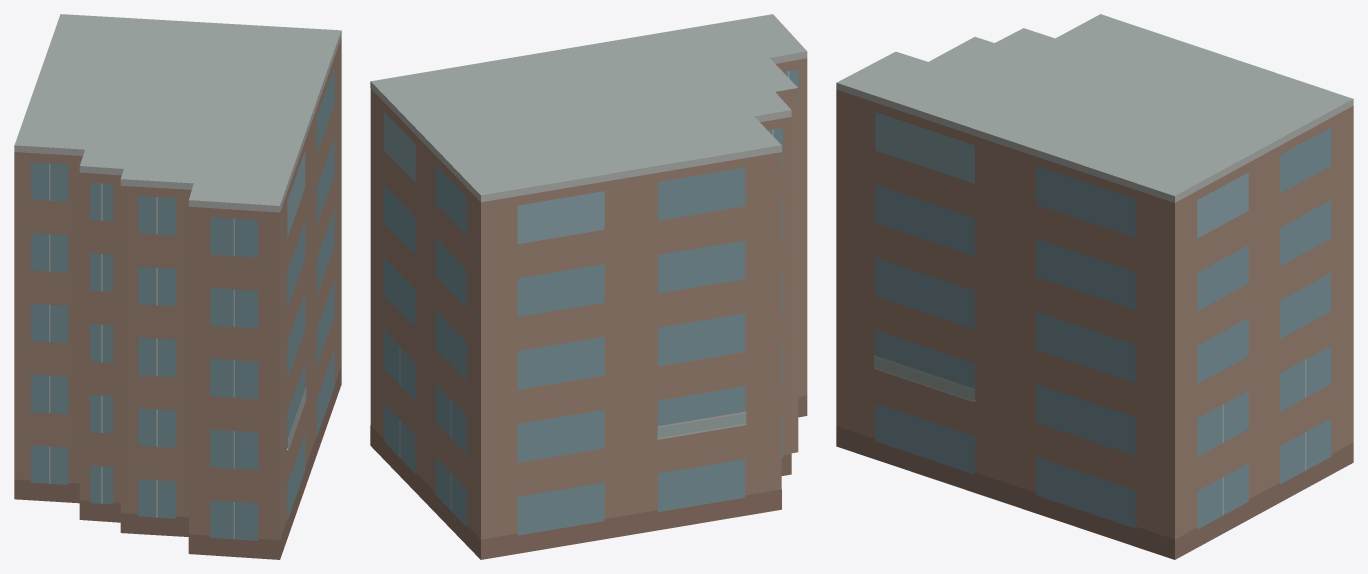
File: survey-upis-32680873.glb
The picture shows the model from 3 angles, left to right: view 1: azimuth 30°, elevation 25°; view 2: azimuth 150°, elevation 25°; view 3: azimuth 270°, elevation 25°; orthographic projection. The views are drawn at different scales.
Parts seen in each view (by area): view 1: survey-upis-32680873.tmp; view 2: survey-upis-32680873.tmp; view 3: survey-upis-32680873.tmp.
Part boxes in pixels (x1,y1,x2,y2): survey-upis-32680873.tmp: [14, 14, 341, 559]; survey-upis-32680873.tmp: [370, 14, 807, 559]; survey-upis-32680873.tmp: [836, 14, 1353, 559].
Size of the model in its own units: 14.08 by 13.1 by 16.89.
